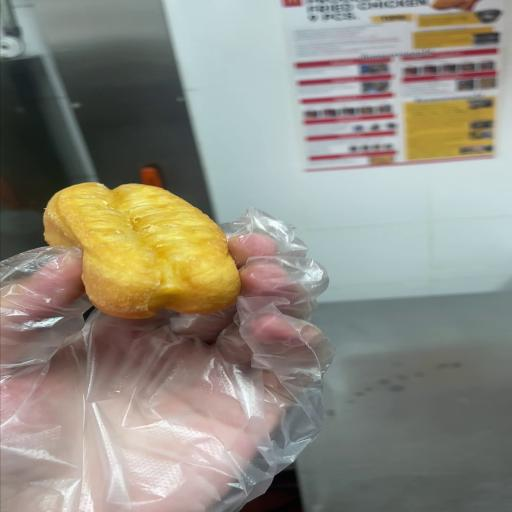brand_golden_good: (44, 183, 240, 318), (148, 251, 154, 256)
